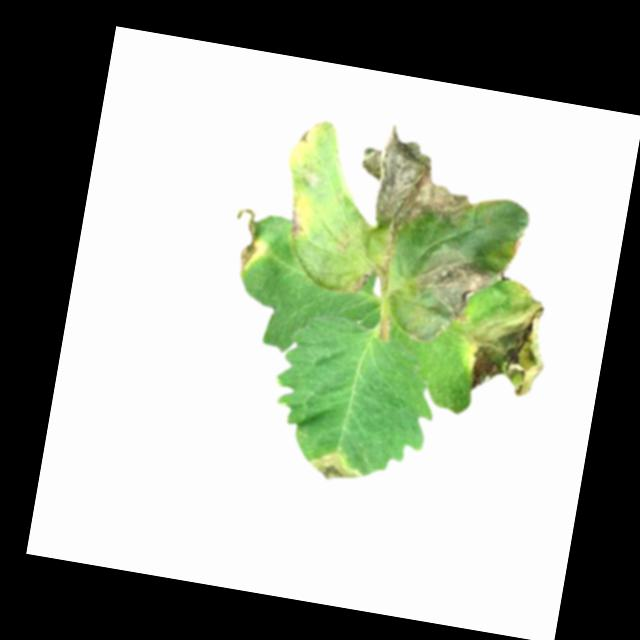Late_blight: (353, 118, 472, 240), (461, 279, 561, 401), (403, 242, 507, 352), (225, 202, 270, 273), (306, 448, 365, 487), (506, 229, 532, 273), (283, 201, 309, 242), (348, 269, 374, 296)
